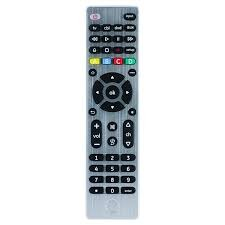remote control: (85, 6, 140, 218)
